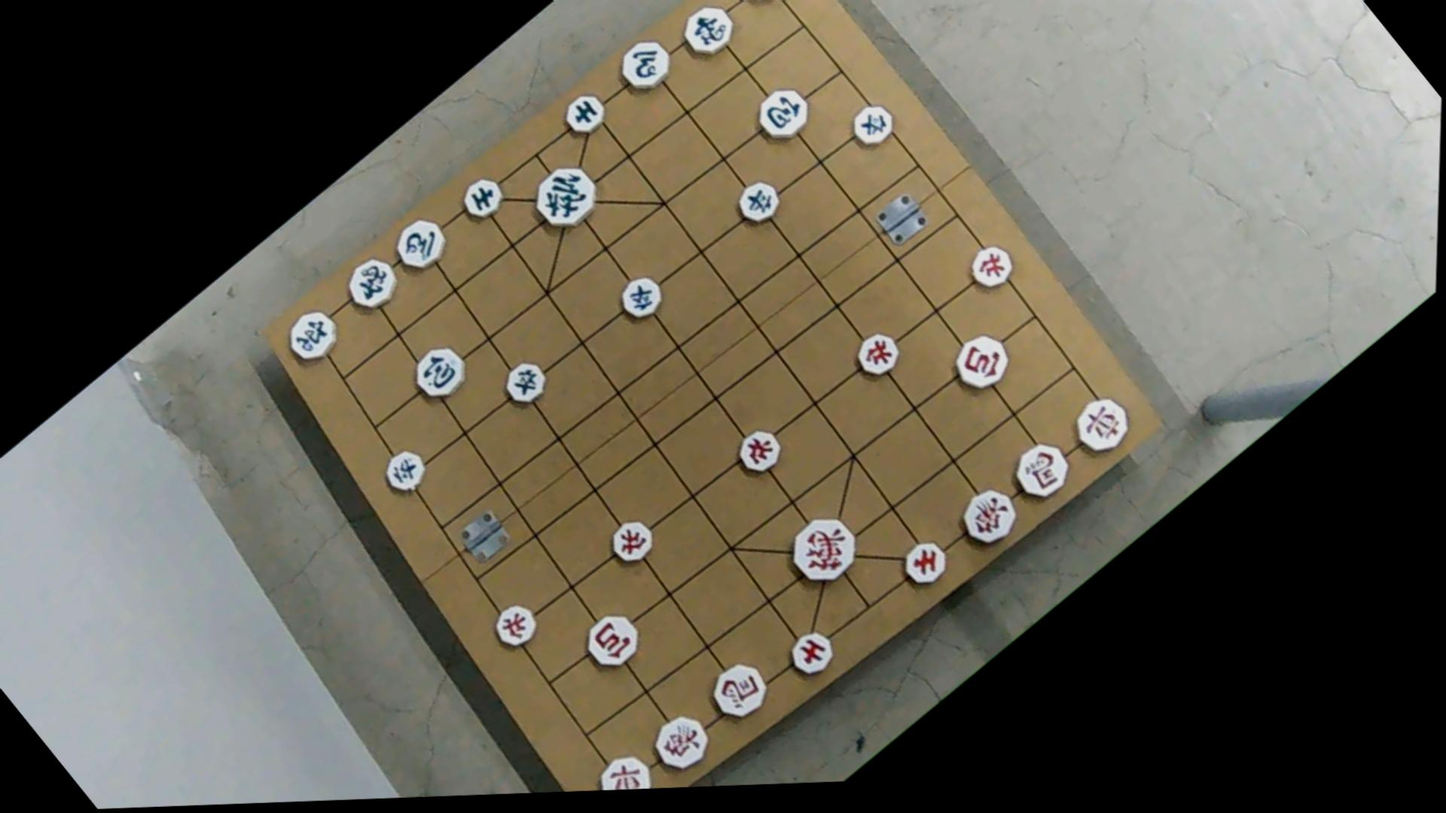cha_green: (279, 301, 347, 369), (731, 0, 798, 12)
cha_red: (1067, 389, 1141, 462), (590, 744, 664, 790)
jol_green: (612, 269, 670, 325), (378, 443, 435, 499), (732, 174, 788, 230), (840, 99, 895, 154), (499, 355, 554, 409)
jol_red: (728, 423, 789, 482), (486, 598, 545, 656), (848, 324, 906, 382), (603, 513, 661, 571), (963, 238, 1021, 295)
ma_green: (612, 33, 681, 102), (388, 210, 456, 278)
ma_red: (701, 655, 777, 729), (1005, 432, 1079, 506)
po_green: (750, 77, 819, 145), (406, 340, 475, 407)
po_red: (945, 327, 1018, 400), (578, 606, 648, 677)
sa_green: (453, 172, 508, 226), (559, 89, 613, 142)
sa_red: (897, 534, 957, 593), (782, 621, 841, 680)
sang_green: (337, 248, 408, 318), (674, 0, 744, 66)
sang_red: (952, 479, 1027, 553), (643, 704, 716, 778)
wang_green: (524, 157, 609, 240)
wang_red: (783, 507, 871, 593)
